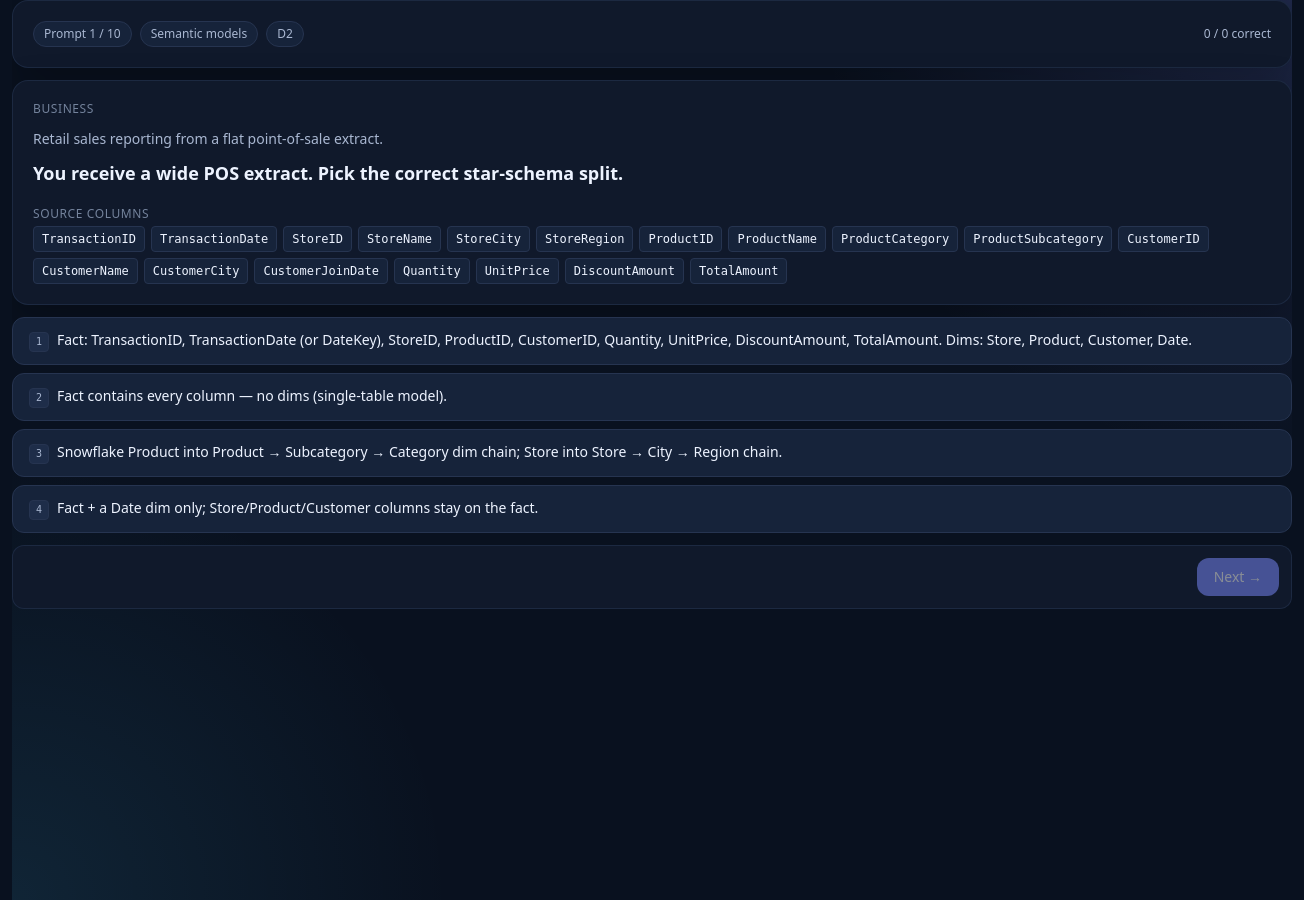
Scenario: StarSchemaLabView › 4. clicking a wrong option reveals Incorrect
Step 1. Click the radio button labelled "2 Fact contains every column — no dims (single-table model)." → (252, 395), box [12,373,1292,421]
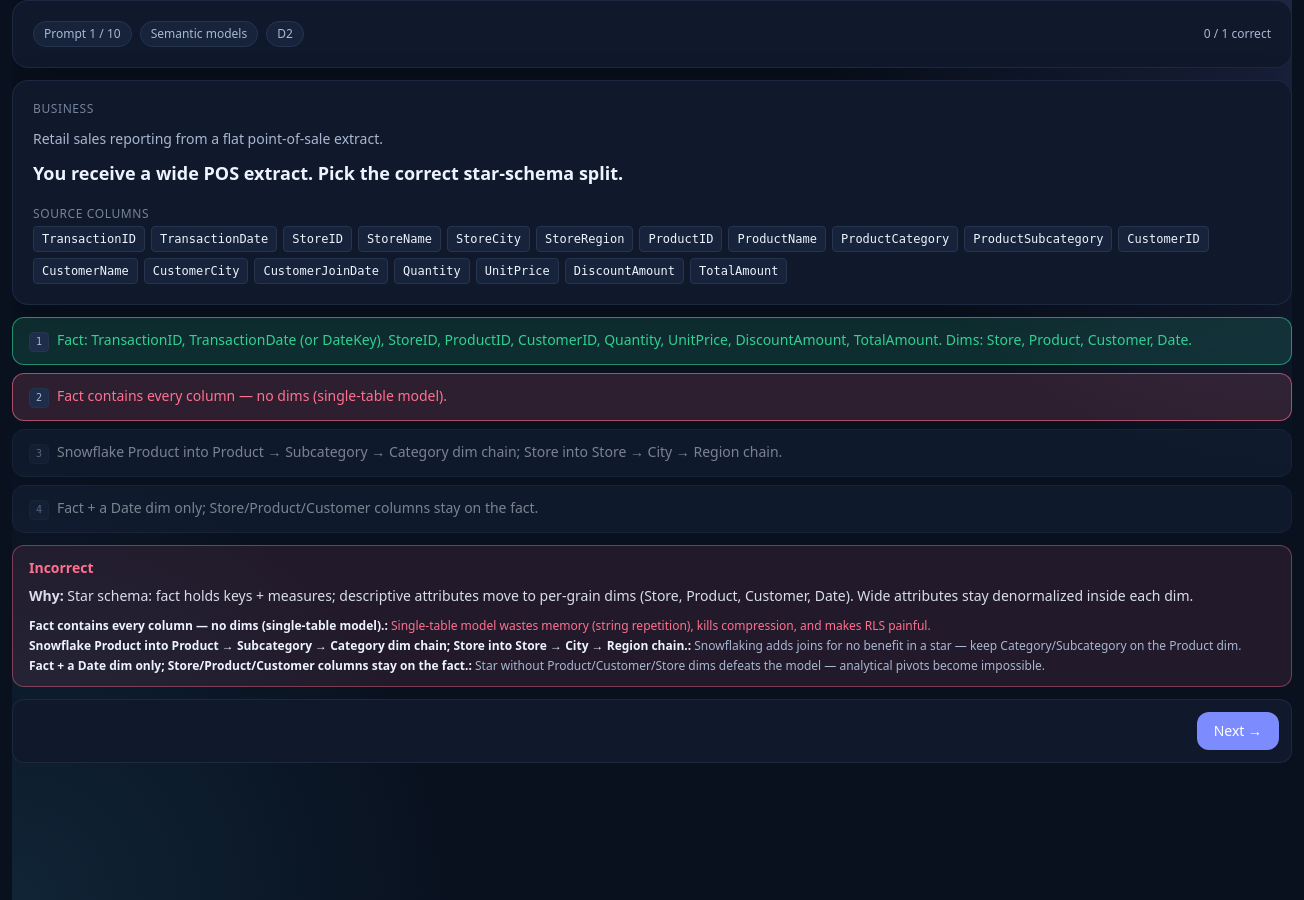
Now the text "Incorrect" is shown, box [29,558,94,577]
